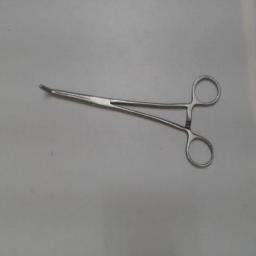Lahey Forceps: (35, 70, 225, 174)
